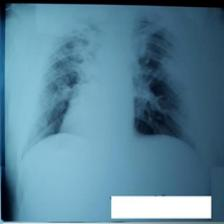tuberculosis: (25, 17, 198, 155)
